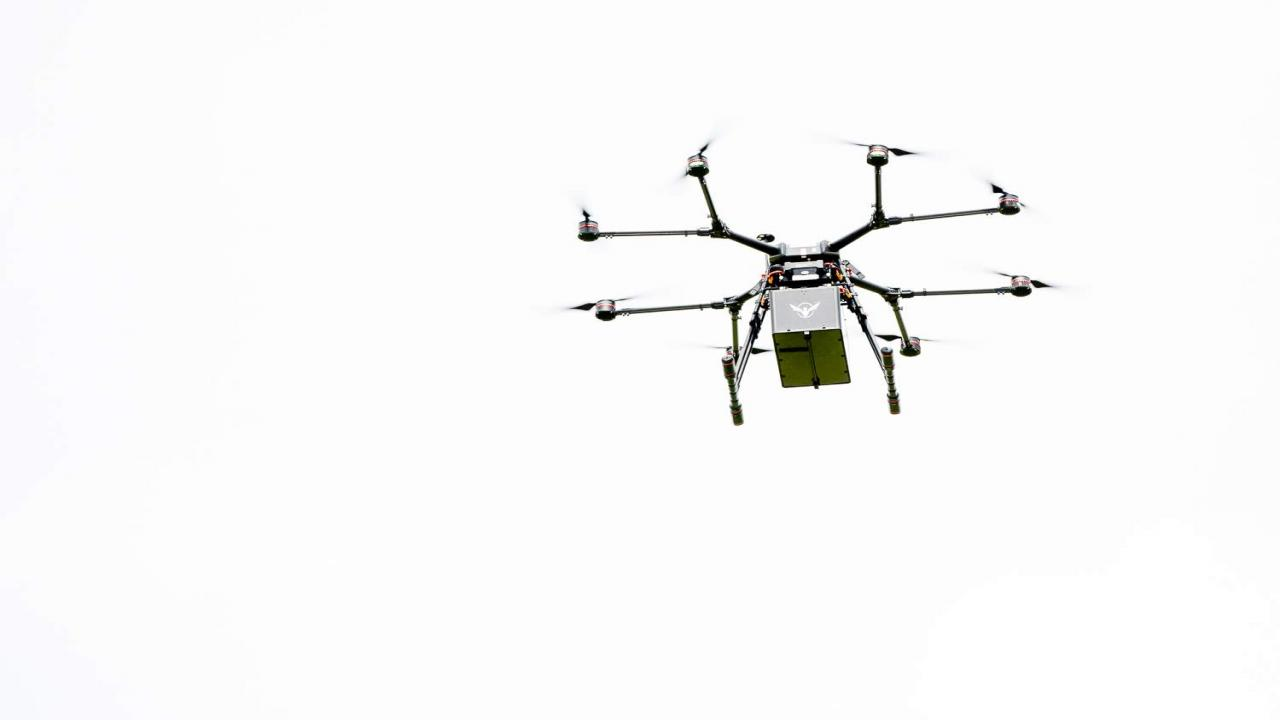Drone: (530, 109, 1078, 435)
